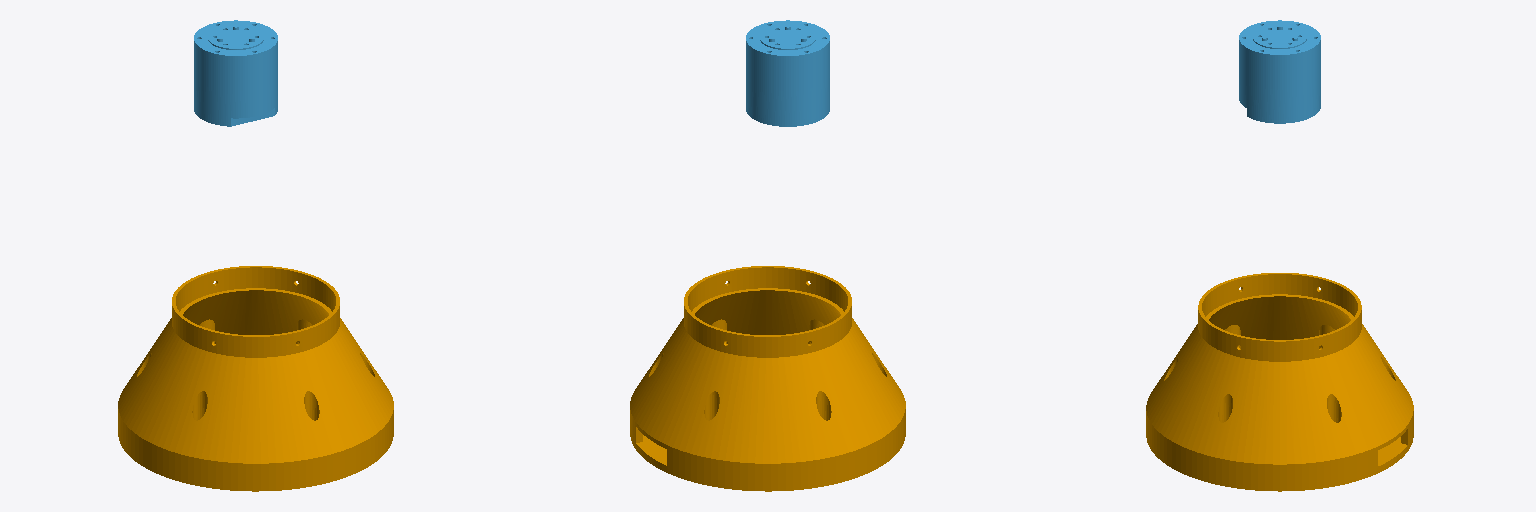
robot.urdf — live_edit_fixture:
<?xml version="1.0"?>
<robot name="live_edit_fixture">
  <link name="base_link">
    <visual>
      <origin xyz="0.195038 0 0.003" rpy="0 0 0" />
      <geometry>
        <mesh filename="../meshes/Base-1.stl" scale="0.001 0.001 0.001" />
      </geometry>
    </visual>
  </link>
  <link name="tool_link">
    <visual>
      <origin xyz="0.10 0 0.12" rpy="0 0 0" />
      <geometry>
        <mesh filename="../meshes/Motor2.stl" scale="0.001 0.001 0.001" />
      </geometry>
    </visual>
  </link>
  <joint name="tool_fixed" type="fixed">
    <origin xyz="0.08 0 0.10" rpy="0 0 0" />
    <parent link="base_link" />
    <child link="tool_link" />
  </joint>
</robot>

--- Render facts (derived) ---
Views: 3 orthographic renders of the robot side by side, from view 1: azimuth 30°, elevation 25°; view 2: azimuth 150°, elevation 25°; view 3: azimuth 270°, elevation 25°.
Model live_edit_fixture with 2 links and 1 joints (1 fixed), rooted at base_link, posed all joints at 0.
Visible links, largest first — view 1: base_link, tool_link; view 2: base_link, tool_link; view 3: base_link, tool_link.
Boxes of the visible links, bbox=[...] form: base_link: bbox=[118, 266, 393, 491]; tool_link: bbox=[194, 20, 277, 126]; base_link: bbox=[630, 266, 905, 491]; tool_link: bbox=[746, 20, 829, 126]; base_link: bbox=[1146, 273, 1413, 491]; tool_link: bbox=[1239, 20, 1320, 123].
Size in the robot's own frame: 0.18 by 0.18 by 0.291 metres.
Meshes: 2 distinct files referenced, 2 mesh visuals loaded (2 binary STL).
